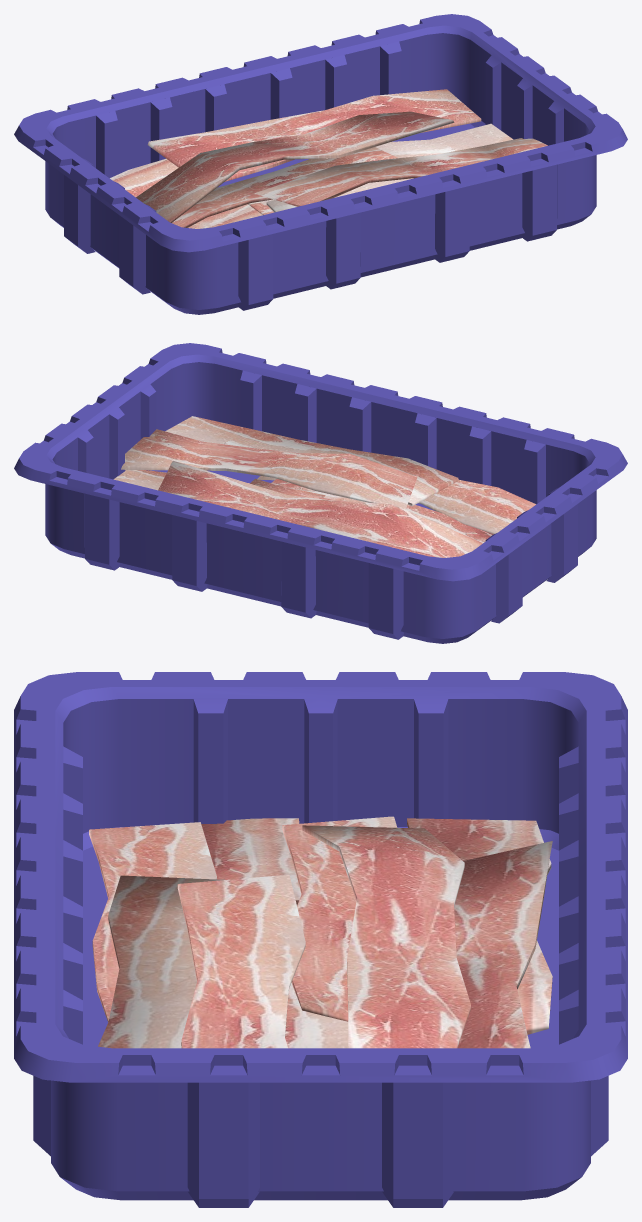
File: Bacon.glb
The picture shows the model from 3 angles, top to bottom: view 1: azimuth 30°, elevation 25°; view 2: azimuth 150°, elevation 25°; view 3: azimuth 270°, elevation 25°; orthographic projection. The views are drawn at different scales.
Visible parts, largest first — view 1: Bacon Tray, Bacon; view 2: Bacon Tray, Bacon; view 3: Bacon Tray, Bacon.
Boxes of the visible parts, x1,y1,x2,y2 form: Bacon Tray: (14,14,627,314); Bacon: (110,89,547,228); Bacon Tray: (14,343,627,643); Bacon: (113,416,535,557); Bacon Tray: (14,672,627,1207); Bacon: (89,816,552,1048).
Size of the model in its own units: 0.2476 by 0.046 by 0.1619.
2 materials, 2 textured.
